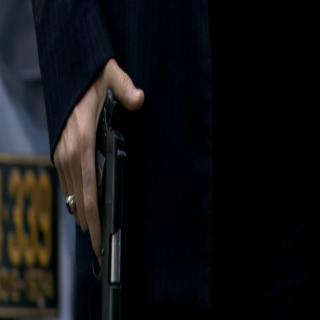gun: (59, 54, 145, 315)
